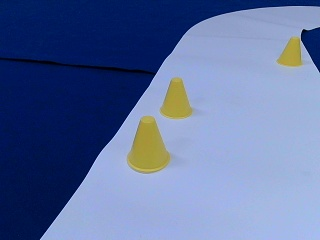cone: (128, 118, 170, 172), (160, 79, 193, 118), (276, 36, 301, 66)
